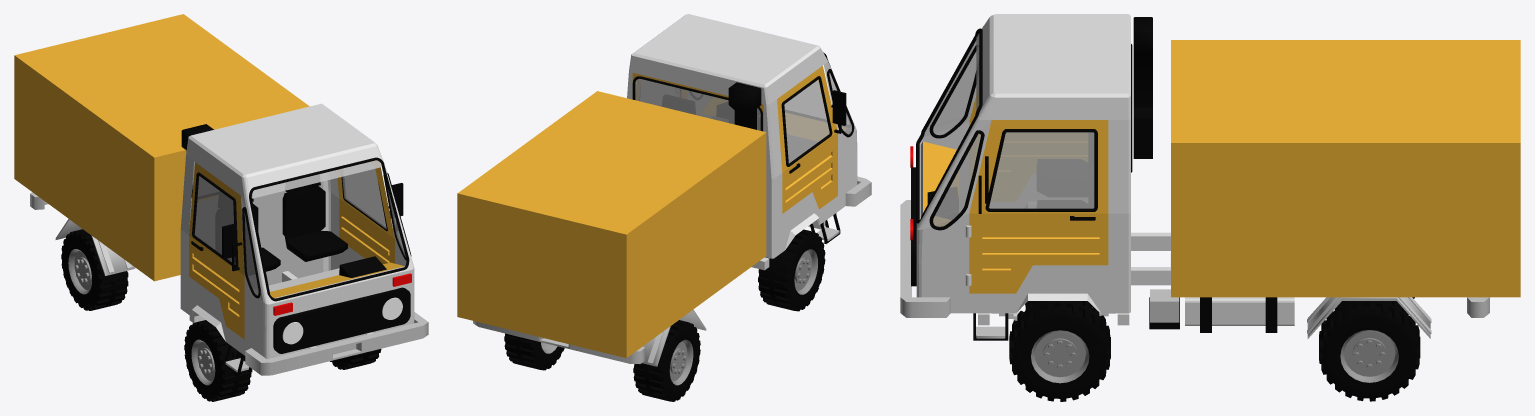
Rendered from dust1.fbx.
3 renders of one model, left to right at view 1: azimuth 30°, elevation 25°; view 2: azimuth 150°, elevation 25°; view 3: azimuth 270°, elevation 25°, orthographic. The views are drawn at different scales.
Parts seen in each view (by area): view 1: Cube, Kabine, Tür, Frontgrill_neu, sitz, Tür_Fenster, Stoßstange, Kabine_innen, Reifen_1_2, Reifen_1, F_Scheibe_Rahmen, Frontscheibe (+12 smaller); view 2: Cube, Kabine, Reifen_1, Tür, Reifen_1_2, Tür_Fenster, Heckfenster, Luftfilter, Stoßstange_Hinten, Felge, Rad_Blech, Tür_F_Rahmen (+5 smaller); view 3: Cube, Kabine, Tür, Tür_Fenster, Reifen_1_2, Reifen_1, Kabine_Fenst_1, Luftfilter, Tank, Felge, Felge_2, Stoßstange (+10 smaller).
Part boxes in pixels (box(x1,y1,x2,y2)): Cube: box(14, 14, 309, 281); Kabine: box(180, 103, 414, 358); Tür: box(189, 162, 394, 339); Frontgrill_neu: box(273, 287, 410, 353); sitz: box(252, 182, 347, 271); Tür_Fenster: box(194, 169, 386, 264); Stoßstange: box(245, 312, 428, 375); Kabine_innen: box(190, 155, 404, 298); Reifen_1_2: box(184, 320, 381, 401); Reifen_1: box(61, 229, 128, 310); F_Scheibe_Rahmen: box(249, 157, 409, 301); Frontscheibe: box(251, 160, 381, 198); Cube: box(457, 91, 766, 358); Kabine: box(627, 14, 857, 258); Reifen_1: box(504, 320, 700, 401); Tür: box(777, 66, 837, 213); Reifen_1_2: box(758, 229, 825, 311); Tür_Fenster: box(781, 80, 829, 163); Heckfenster: box(635, 78, 760, 130); Luftfilter: box(728, 82, 761, 129); Stoßstange_Hinten: box(473, 321, 645, 363); Felge: box(541, 339, 693, 385); Rad_Blech: box(642, 309, 706, 366); Tür_F_Rahmen: box(781, 76, 832, 166); Cube: box(1171, 40, 1520, 297); Kabine: box(916, 14, 1130, 313); Tür: box(969, 95, 1108, 293); Tür_Fenster: box(989, 132, 1094, 208); Reifen_1_2: box(1009, 301, 1110, 401); Reifen_1: box(1319, 297, 1420, 401); Kabine_Fenst_1: box(933, 51, 980, 226); Luftfilter: box(1133, 17, 1152, 158); Tank: box(1185, 297, 1294, 325); Felge: box(1340, 330, 1398, 382); Felge_2: box(1031, 330, 1089, 383); Stoßstange: box(900, 200, 950, 317).
Bounding box in the file's own units: 177 × 226 × 424.
